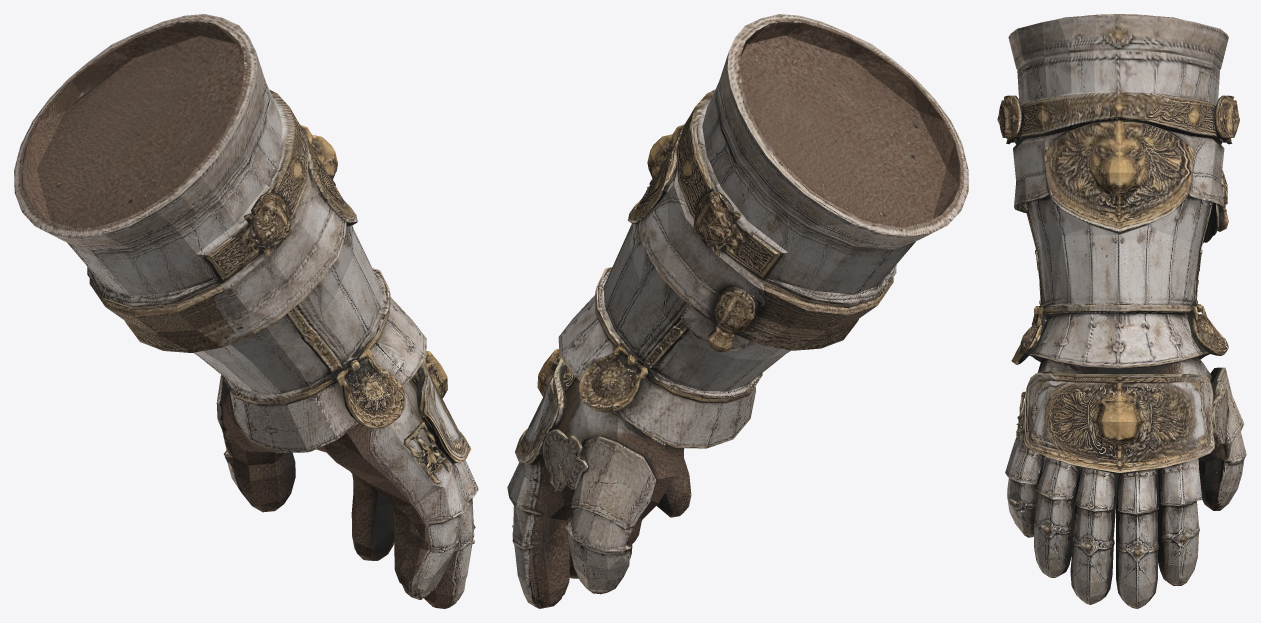
File: manoplas.glb
3 renders of one model, left to right at view 1: azimuth 30°, elevation 25°; view 2: azimuth 150°, elevation 25°; view 3: azimuth 270°, elevation 25°, orthographic. The views are drawn at different scales.
Visible parts, largest first — view 1: tripo_node_42a886bc-5061-40f8-b96a-4d2cfe3b8f79; view 2: tripo_node_42a886bc-5061-40f8-b96a-4d2cfe3b8f79; view 3: tripo_node_42a886bc-5061-40f8-b96a-4d2cfe3b8f79.
Boxes of the visible parts, x1=… form: tripo_node_42a886bc-5061-40f8-b96a-4d2cfe3b8f79: x1=14, y1=14, x2=478, y2=608; tripo_node_42a886bc-5061-40f8-b96a-4d2cfe3b8f79: x1=507, y1=14, x2=968, y2=608; tripo_node_42a886bc-5061-40f8-b96a-4d2cfe3b8f79: x1=997, y1=14, x2=1246, y2=608.
Size of the model in its own units: 0.7129 by 0.998 by 0.4395.
1 material, 1 textured.
